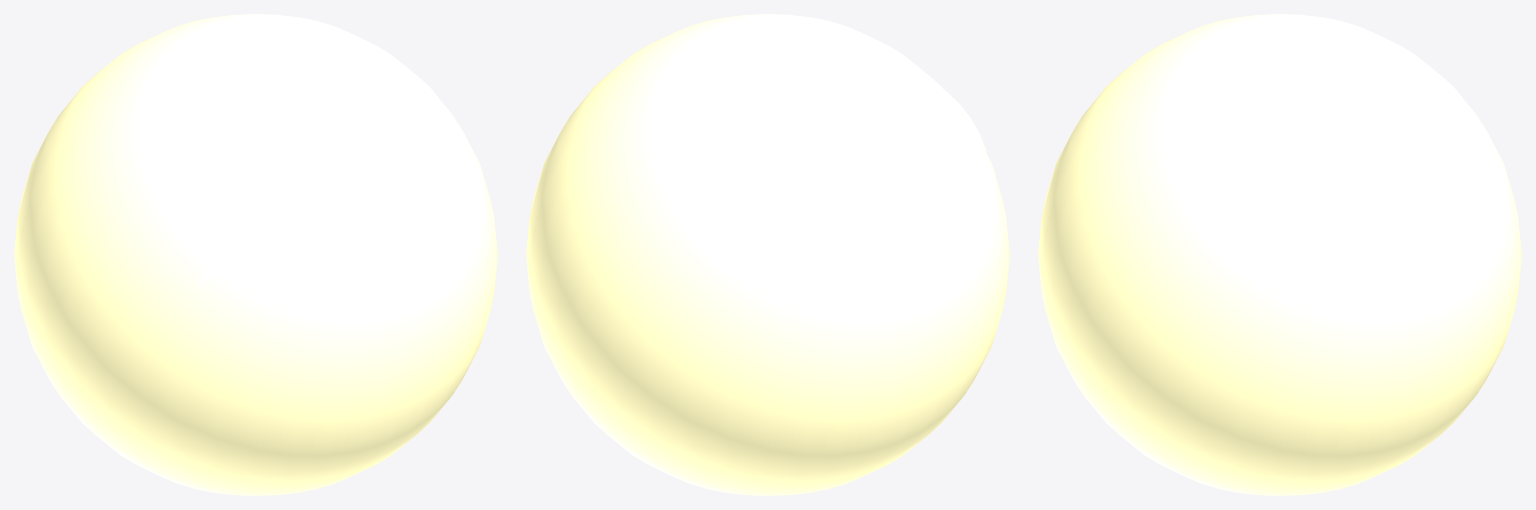
File: special_bubble_bolt.glb
The picture shows the model from 3 angles, left to right: view 1: azimuth 30°, elevation 25°; view 2: azimuth 150°, elevation 25°; view 3: azimuth 270°, elevation 25°; orthographic projection.
Parts seen in each view (by area): view 1: special_bubble_bolt; view 2: special_bubble_bolt; view 3: special_bubble_bolt.
Part boxes in pixels (<box>): special_bubble_bolt: <box>14,14,497,495</box>; special_bubble_bolt: <box>526,14,1009,495</box>; special_bubble_bolt: <box>1038,14,1521,495</box>.
Size of the model in its own units: 0.9 by 0.9 by 0.9.
